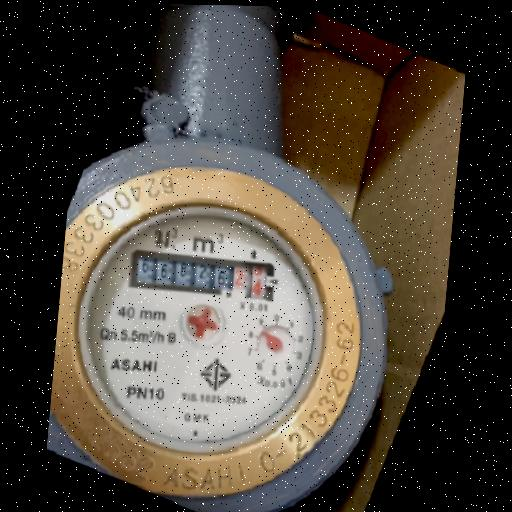2: (195, 263, 211, 287), (234, 267, 248, 291)
4: (250, 267, 266, 298)
6: (137, 257, 153, 282), (157, 259, 173, 284), (215, 266, 230, 290)
8: (176, 261, 191, 286)
border_water_meter_number: (129, 247, 278, 305)
